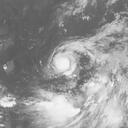cyclone: (44, 40, 81, 79)
